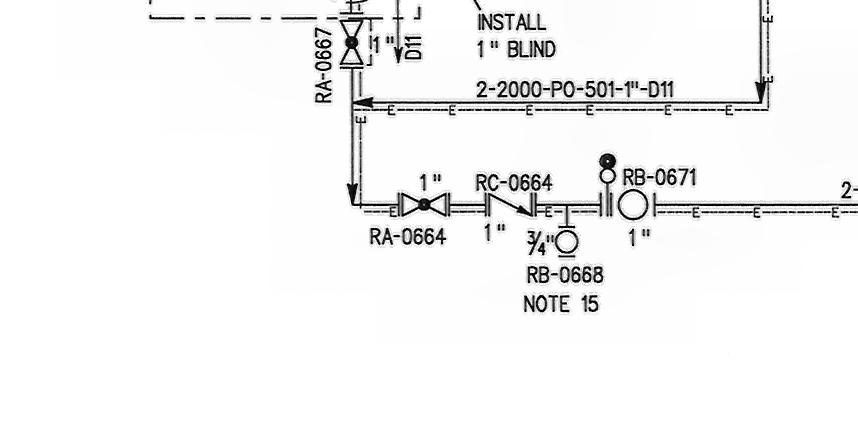FIELD INSTRUMENT: (610, 186, 655, 223), (555, 225, 579, 259)
GLOBE VALVE: (337, 19, 368, 66), (398, 191, 451, 218)
